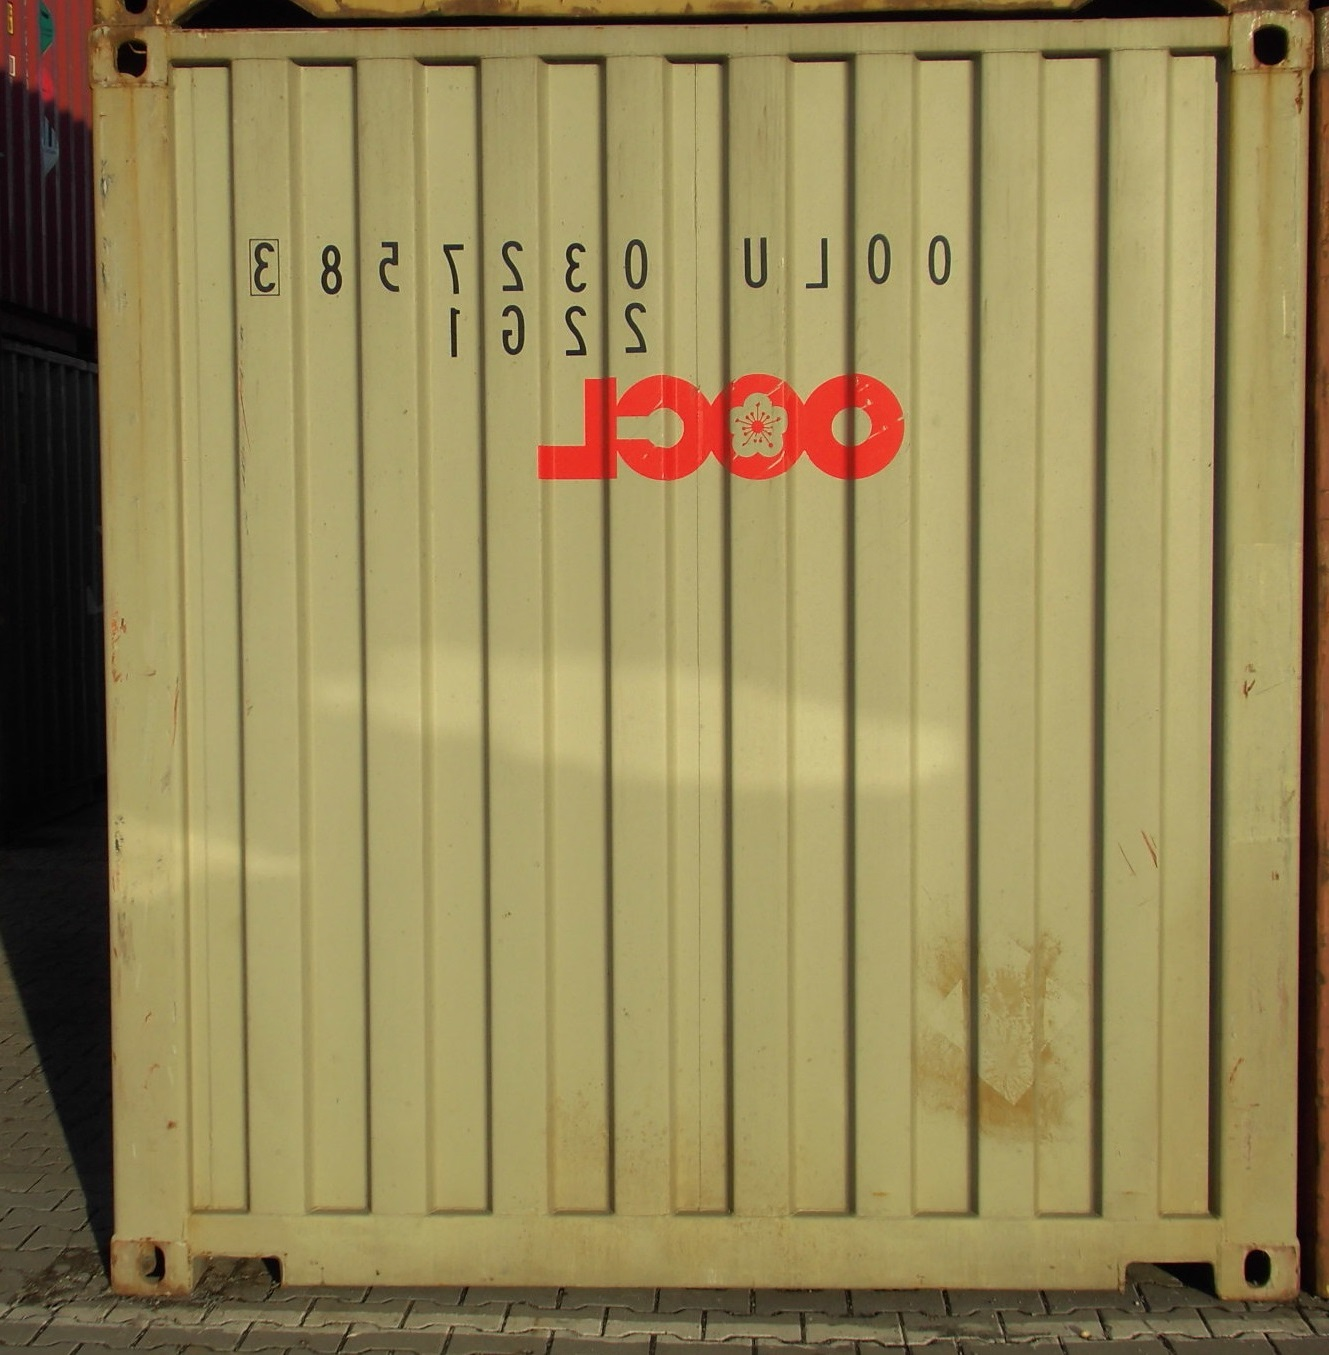container_no_door: (86, 13, 1306, 1292)
